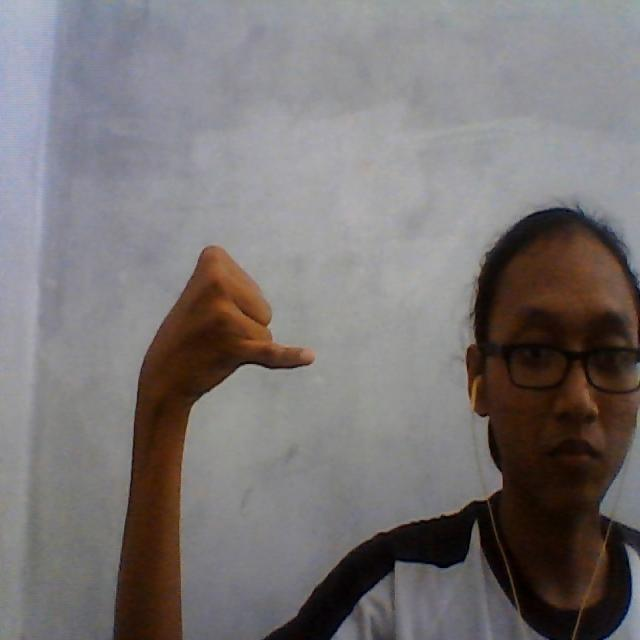J: (112, 216, 344, 420)
